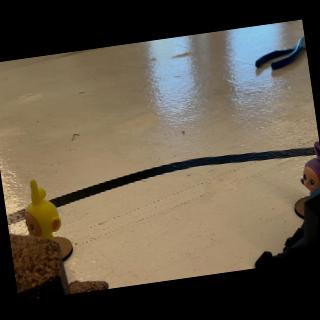teletubby: (24, 179, 61, 240), (300, 141, 320, 194)
